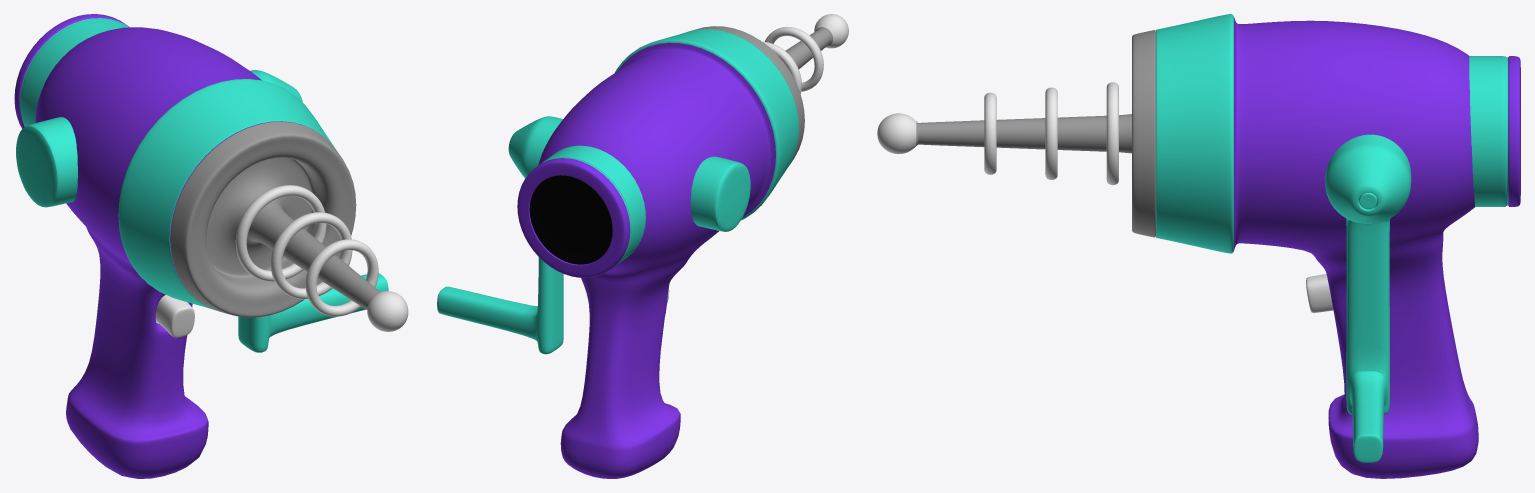
Rendered from lazerGun.fbx.
The picture shows the model from 3 angles, left to right: view 1: azimuth 30°, elevation 25°; view 2: azimuth 150°, elevation 25°; view 3: azimuth 270°, elevation 25°; orthographic projection. The views are drawn at different scales.
Parts seen in each view (by area): view 1: 球, 球.001; view 2: 球, 球.001; view 3: 球, 球.001.
Part boxes in pixels (box(x1,y1,x2,y2)): 球: box(14, 14, 408, 478); 球.001: box(16, 70, 388, 352); 球: box(517, 14, 848, 478); 球.001: box(437, 116, 750, 354); 球: box(877, 14, 1520, 478); 球.001: box(1325, 134, 1411, 462).
Size of the model in its own units: 448 by 547 by 716.
